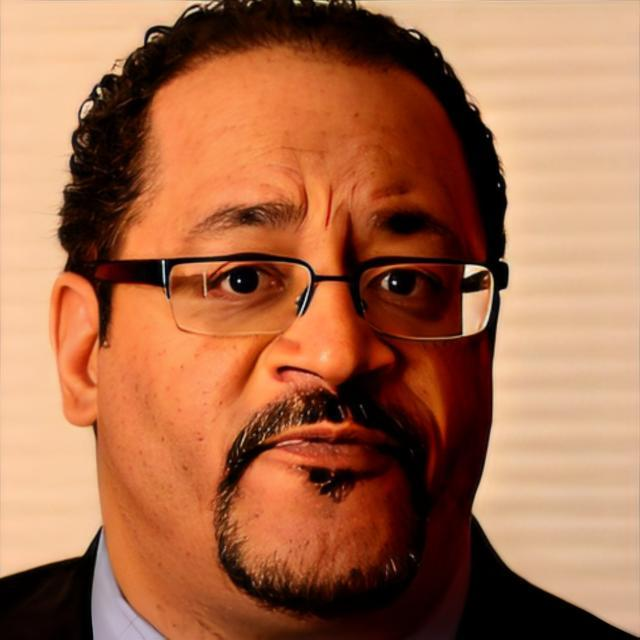sad: (99, 36, 502, 614)
